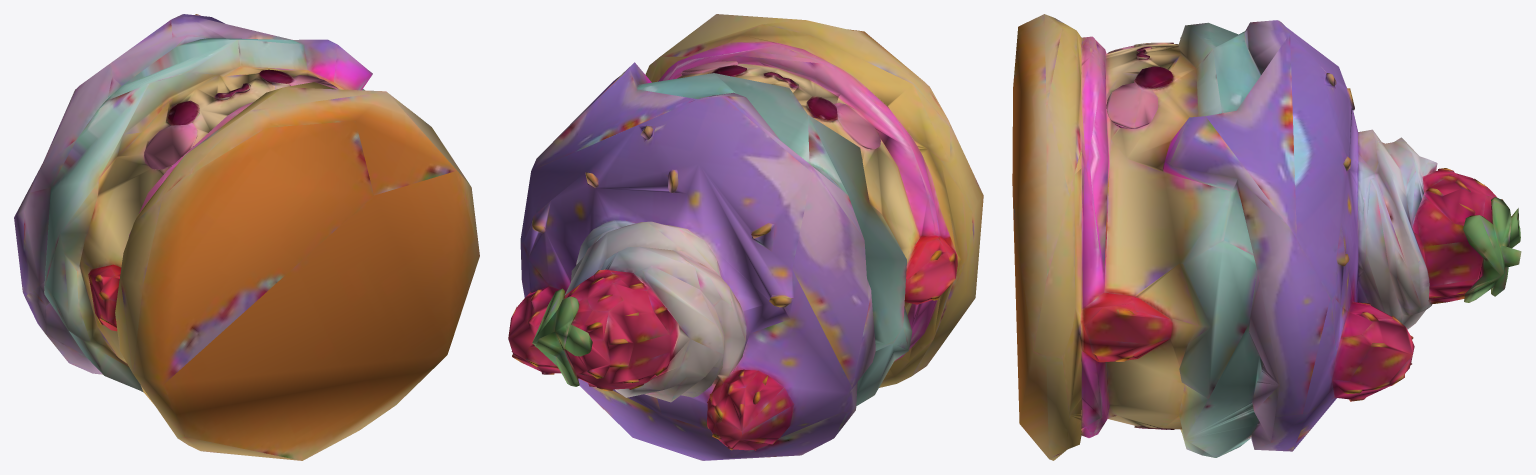
The picture shows the model from 3 angles, left to right: view 1: azimuth 30°, elevation 25°; view 2: azimuth 150°, elevation 25°; view 3: azimuth 270°, elevation 25°; orthographic projection. The views are drawn at different scales.
Visible parts, largest first — view 1: material; view 2: material; view 3: material.
Boxes of the visible parts, bbox=[...] form: material: bbox=[14, 14, 479, 460]; material: bbox=[508, 14, 983, 460]; material: bbox=[1012, 14, 1521, 460].
Size of the model in its own units: 0.88 by 0.8798 by 1.
Materials: 1 (1 with a texture image).
